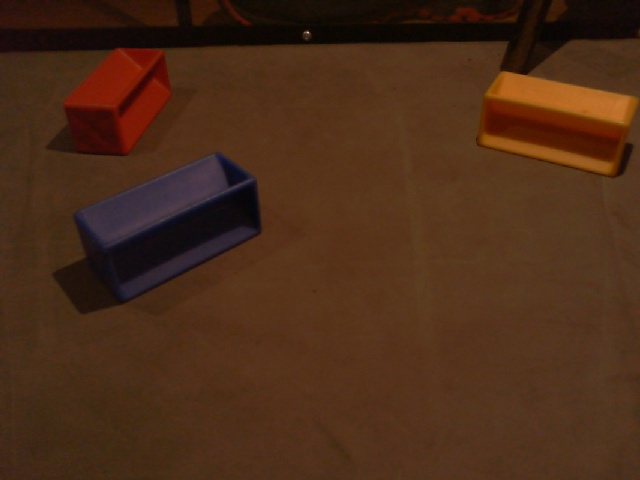BlueSample: (69, 149, 264, 305)
RedSample: (68, 47, 176, 154)
YellowSample: (476, 67, 640, 180)
